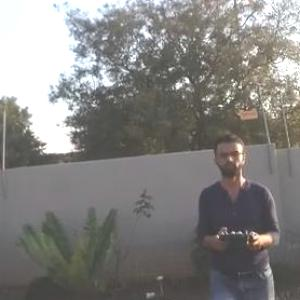follow: (194, 127, 287, 299)
